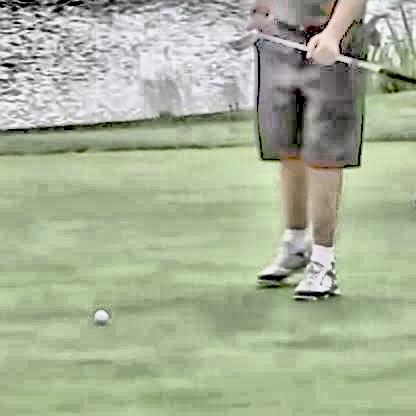golfball: (91, 306, 107, 322)
